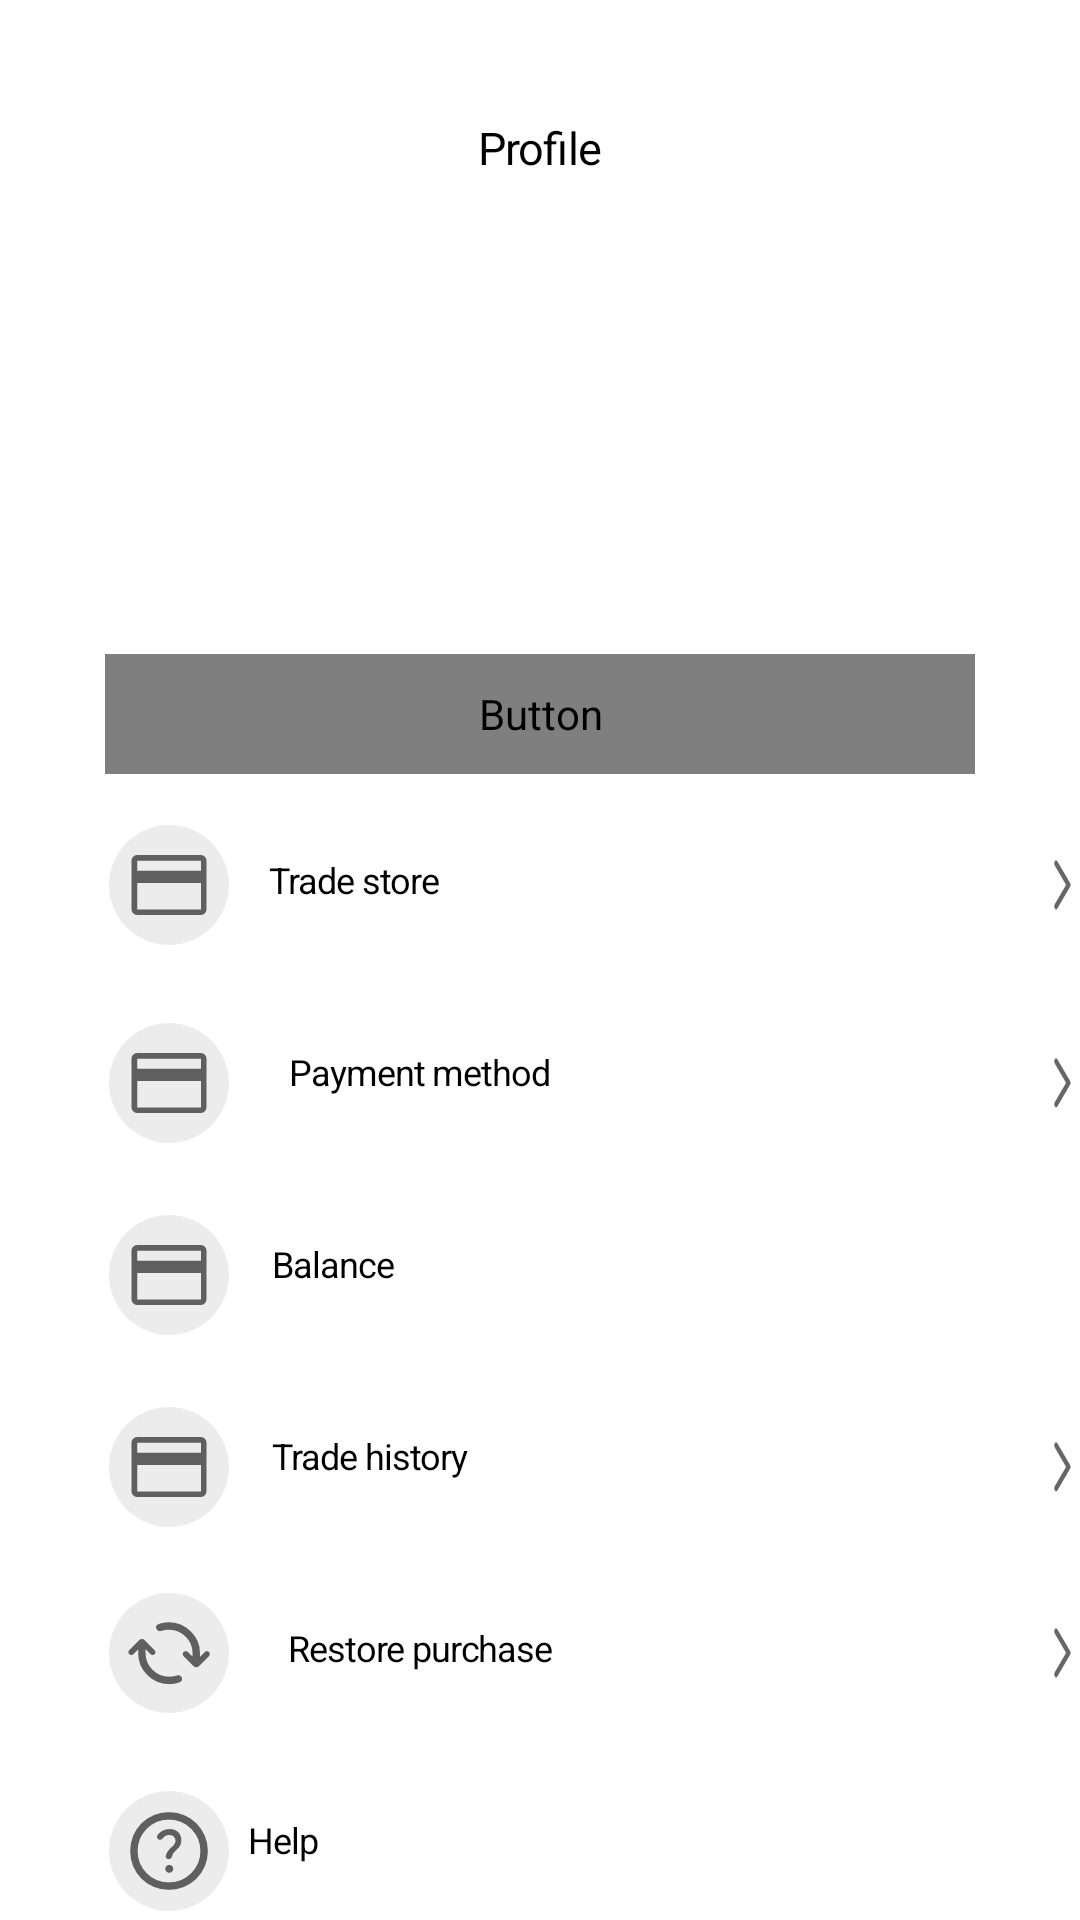

Point at icon controls on the screen. Image size 1080 × 1920, points as [x,y].
arrow forward: [1062,885], [1062,1083], [1062,1467], [1062,1653]
cached: [169,1653]
